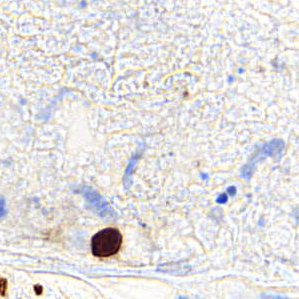Lymphocyte: (90, 227, 125, 259)
